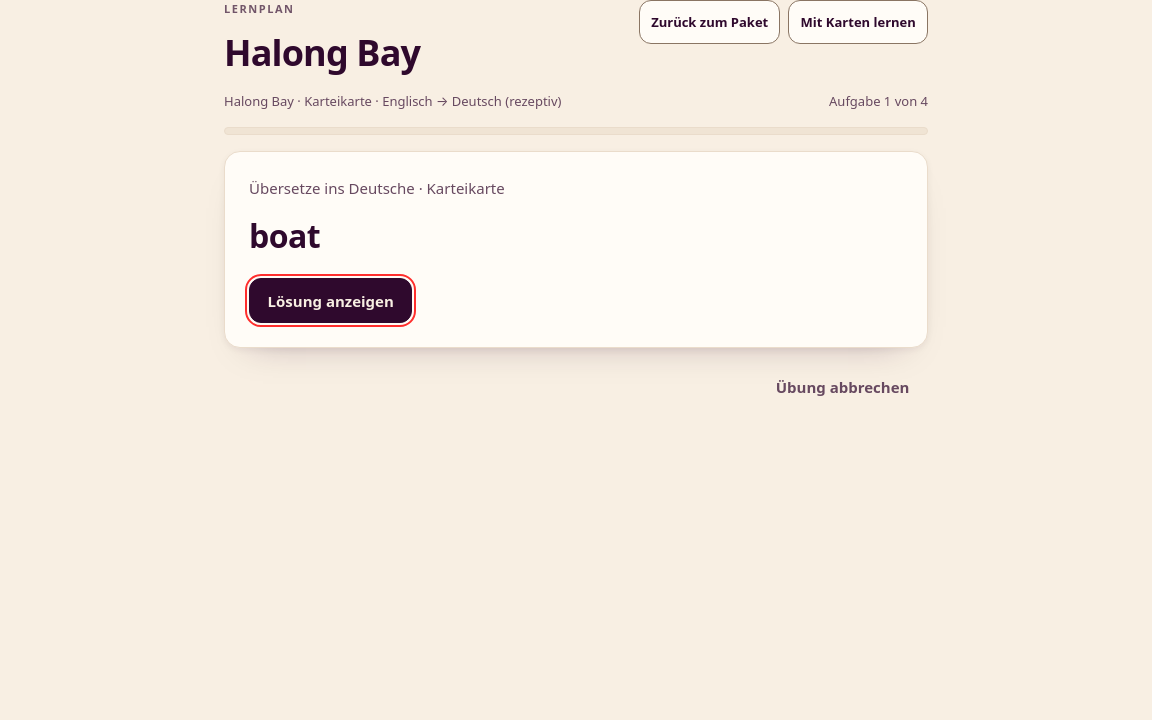
Test: Rückfrage vor dem Verlassen › fragt in einer laufenden Runde nach – auf beiden Wegen
The width and height of the screenshot is (1152, 720).
Expected: the text "Aufgabe 1 von 4" is shown, [829,91,928,111]
Click the button "Mit Karten lernen" at {"x": 858, "y": 22}, box [788,0,928,44]
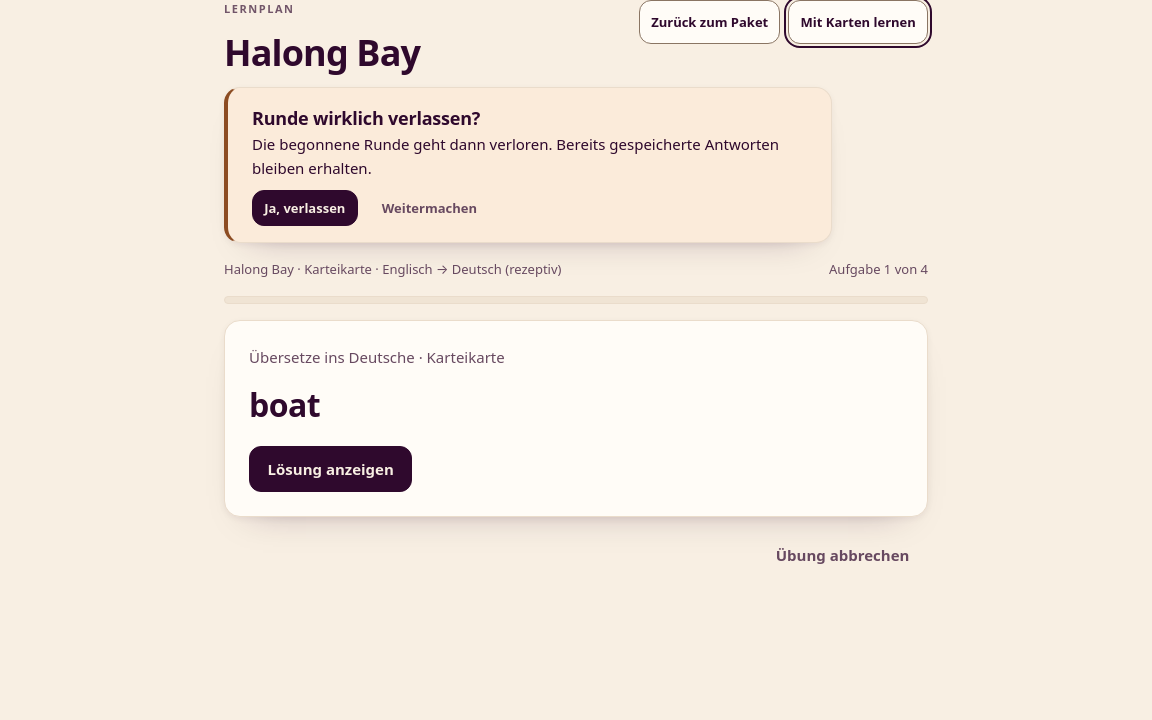
Expected: the text "Runde wirklich verlassen?" is shown, [252,106,480,130]
Click the button "Weitermachen" at {"x": 429, "y": 208}, box [370,190,489,226]
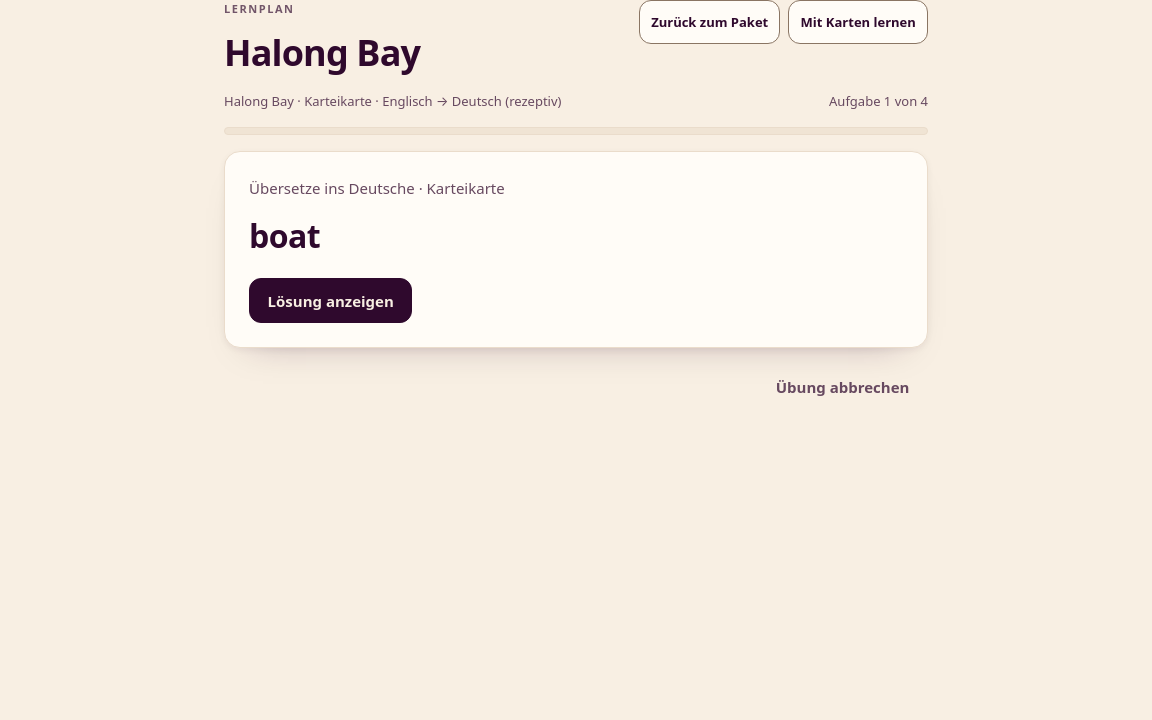
Expected: the text "Runde wirklich verlassen?" is gone
Click the button "Zurück zum Paket" at {"x": 710, "y": 22}, box [639,0,780,44]
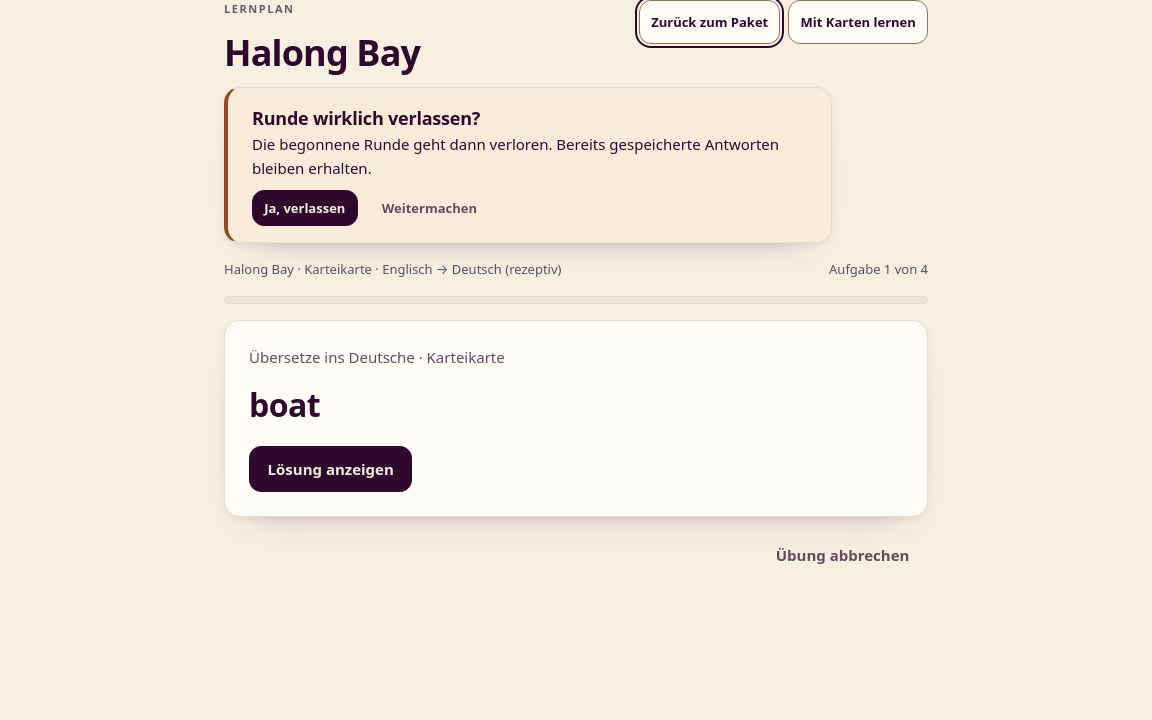
Expected: the text "Runde wirklich verlassen?" is shown, [252,106,480,130]
Click the button "Ja, verlassen" at {"x": 305, "y": 208}, box [252,190,358,226]
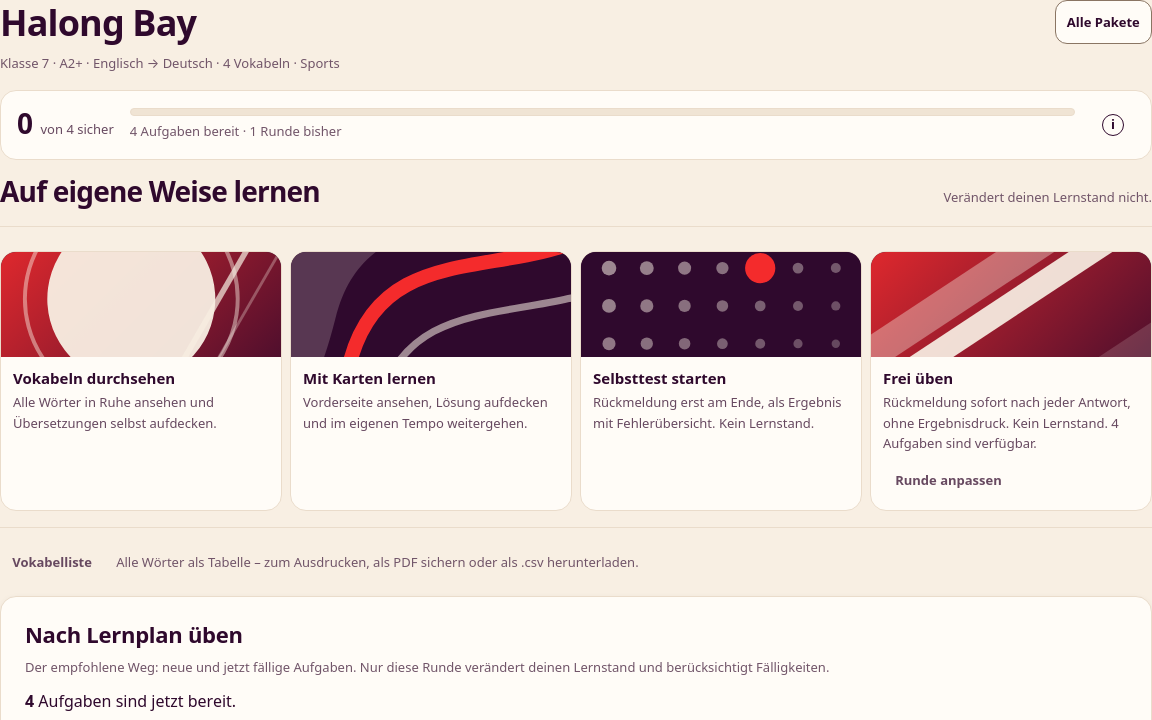
Expected: the heading "Auf eigene Weise lernen" is shown, [0,176,320,206]
